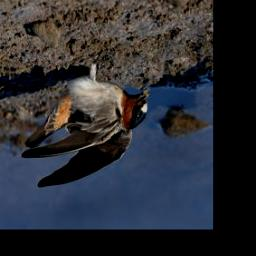Swallow: (21, 49, 149, 189)
